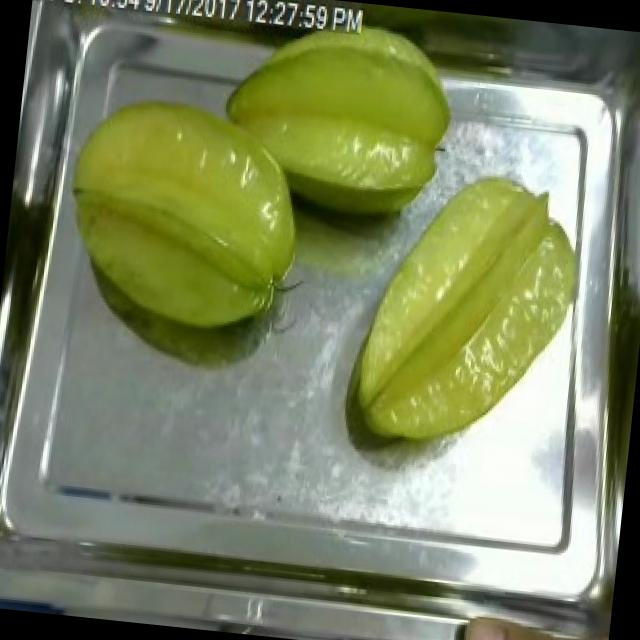fruit: (339, 151, 597, 468), (48, 77, 325, 350), (204, 1, 473, 217), (451, 591, 611, 640)
